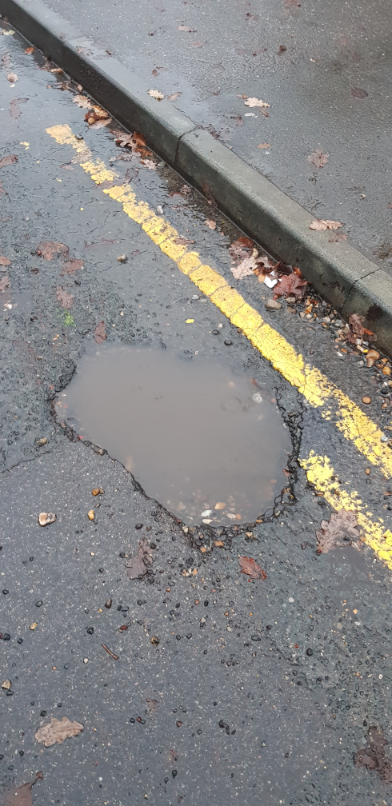pothole: (40, 319, 310, 558)
